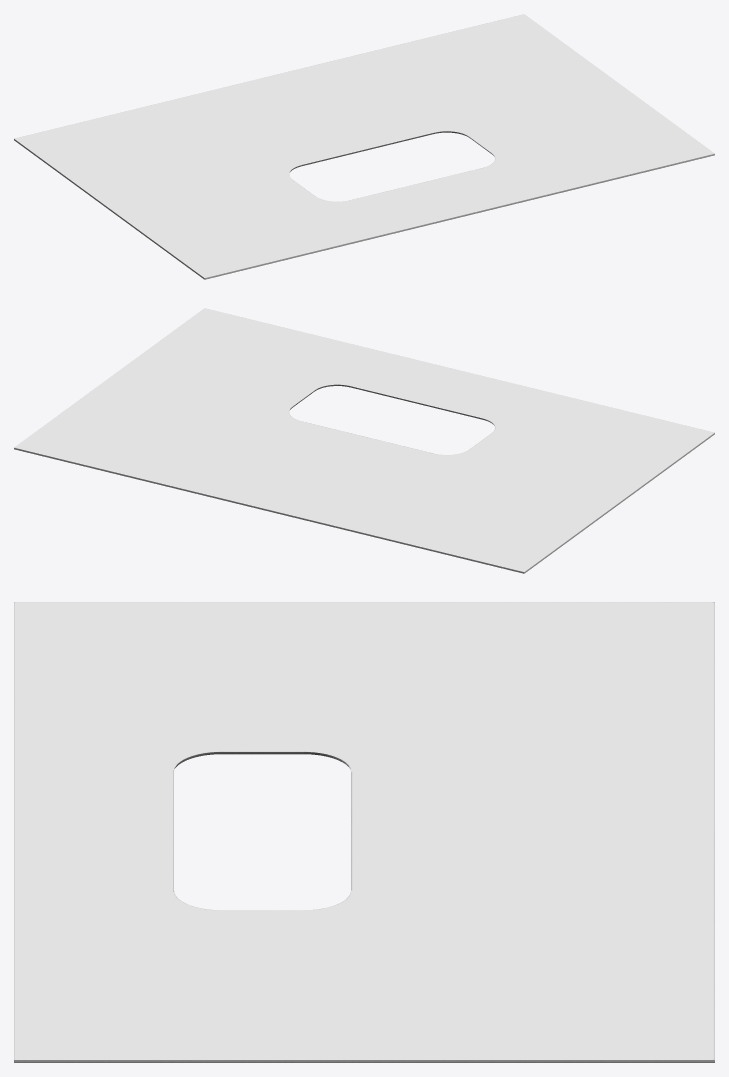
3 views of the same model, one above another, from view 1: azimuth 30°, elevation 25°; view 2: azimuth 150°, elevation 25°; view 3: azimuth 270°, elevation 25° (orthographic). The views are drawn at different scales.
Parts seen in each view (by area): view 1: HORNEADO_suelo; view 2: HORNEADO_suelo; view 3: HORNEADO_suelo.
Boxes of the visible parts, x1,y1,x2,y2 form: HORNEADO_suelo: (14,14,714,279); HORNEADO_suelo: (14,308,714,573); HORNEADO_suelo: (14,602,714,1062).
Size of what is drawn, in the model's own units: 34 by 0.1 by 22.
Materials: 1 (1 with a texture image).
